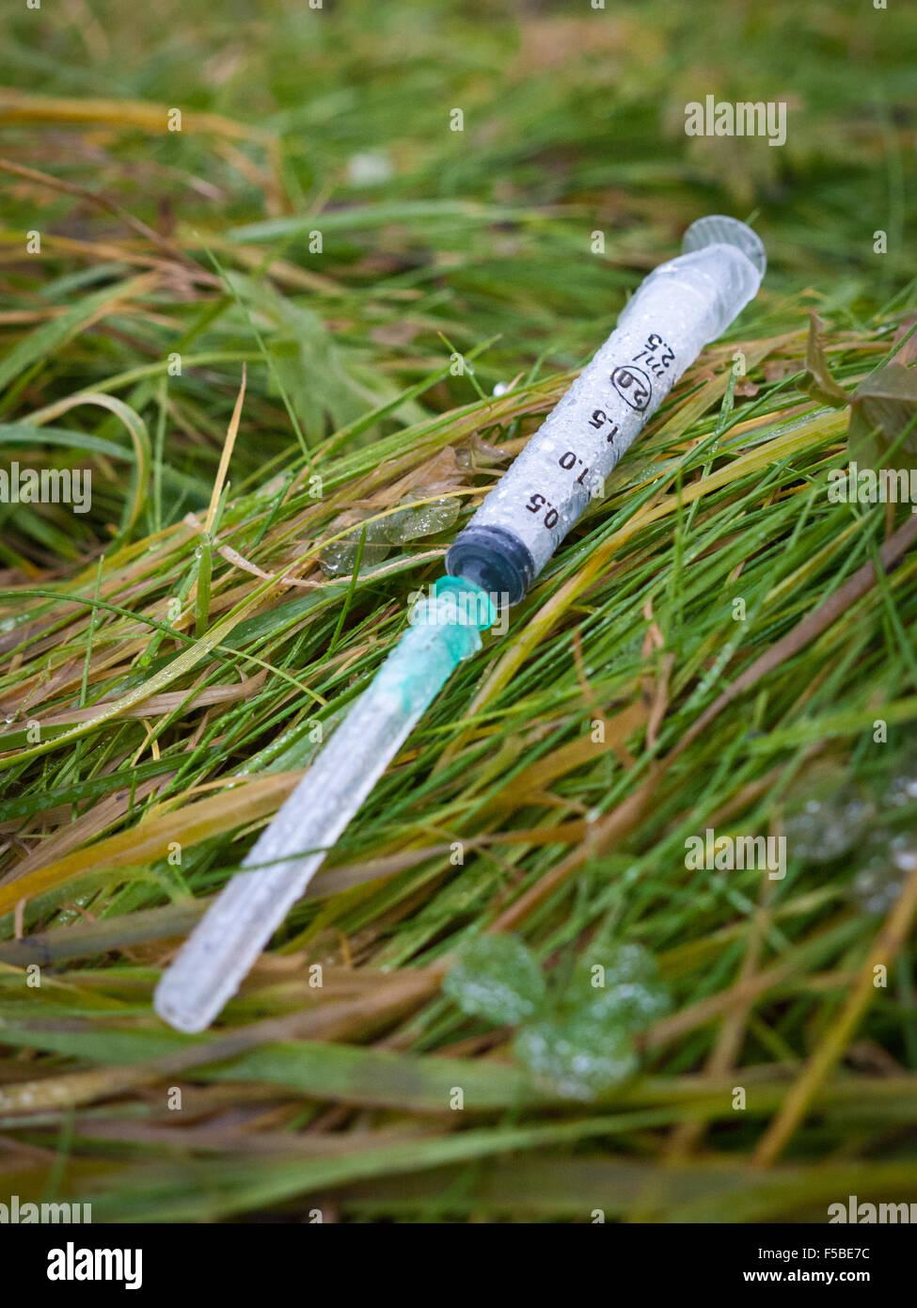Syringe: (155, 216, 765, 1031), (446, 215, 766, 603)
